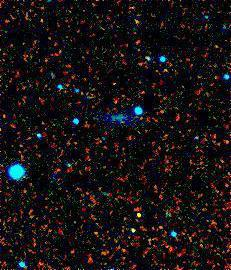star: (127, 205, 157, 235)
